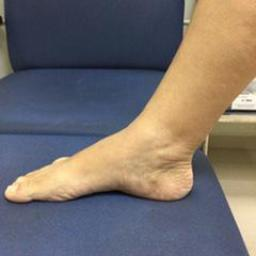Medial View -Right Foot-: (2, 93, 221, 207)
